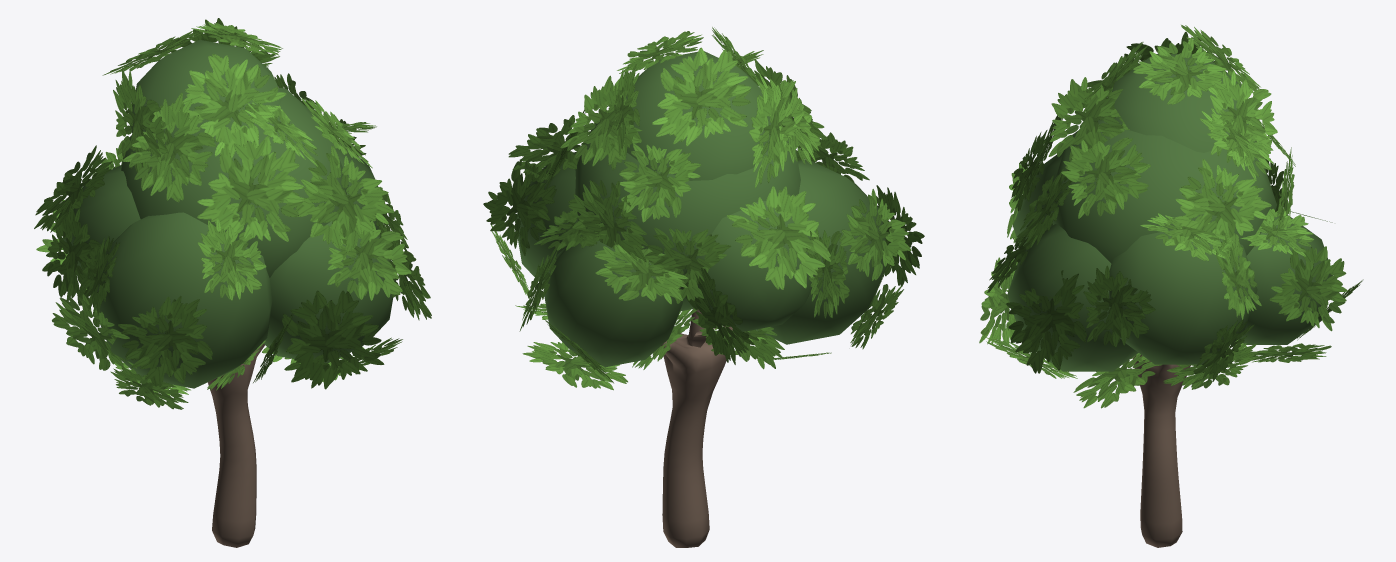
The model's file is round_tree_1.gltf.
3 renders of one model, left to right at view 1: azimuth 30°, elevation 25°; view 2: azimuth 150°, elevation 25°; view 3: azimuth 270°, elevation 25°, orthographic. The views are drawn at different scales.
Visible parts, largest first — view 1: RoundTree; view 2: RoundTree; view 3: RoundTree.
Boxes of the visible parts, bbox=[...] form: RoundTree: bbox=[34, 18, 431, 547]; RoundTree: bbox=[483, 27, 924, 547]; RoundTree: bbox=[979, 25, 1363, 547].
Size of the model in its own units: 5.37 by 7.29 by 5.39.
Materials: 3 (1 with a texture image).
